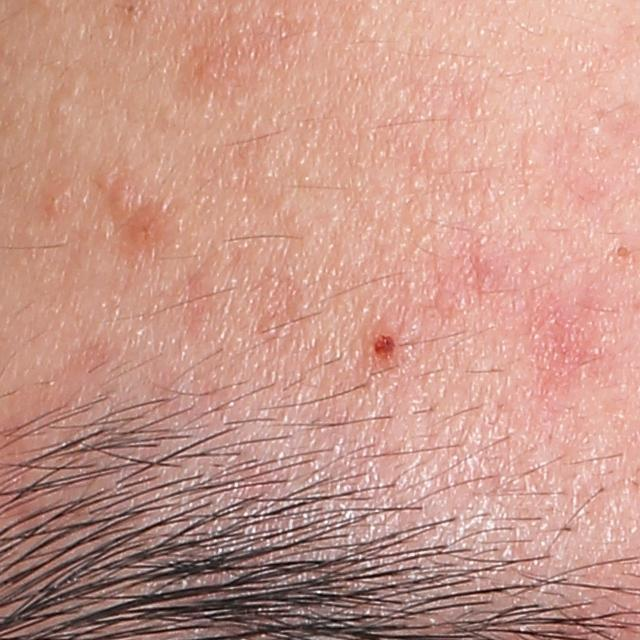comedo: (48, 98, 75, 121), (121, 2, 145, 20), (612, 243, 631, 263)
other: (366, 327, 405, 360)
papule: (40, 186, 70, 215)
